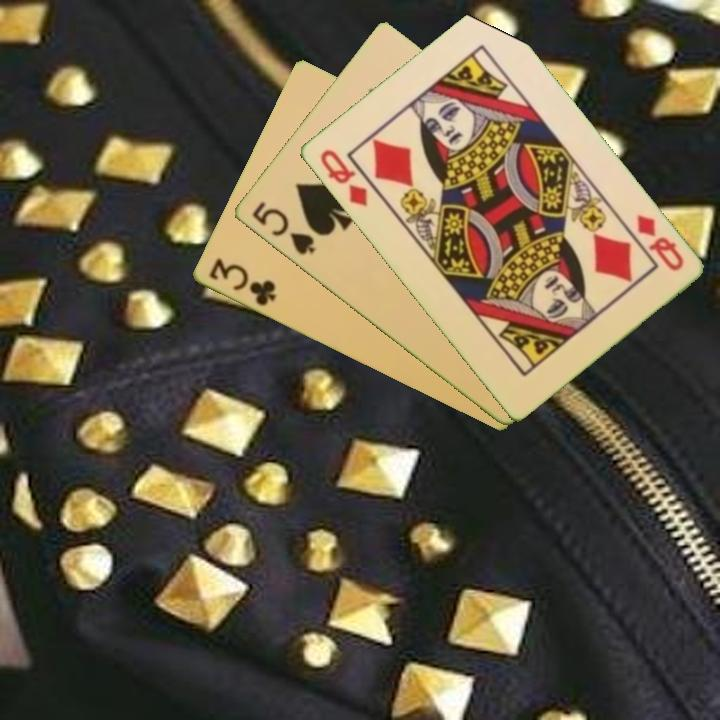3c: (205, 254, 278, 310)
5s: (248, 197, 317, 258)
Qd: (315, 145, 370, 210), (632, 210, 686, 274)
